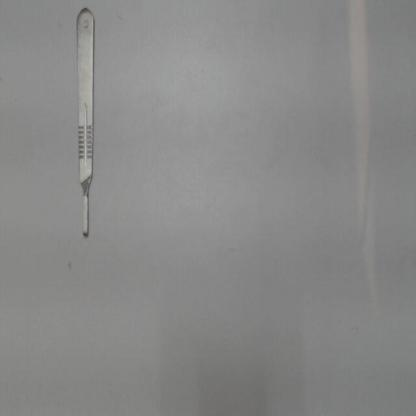No.4 BP Handle: (70, 4, 102, 246)
